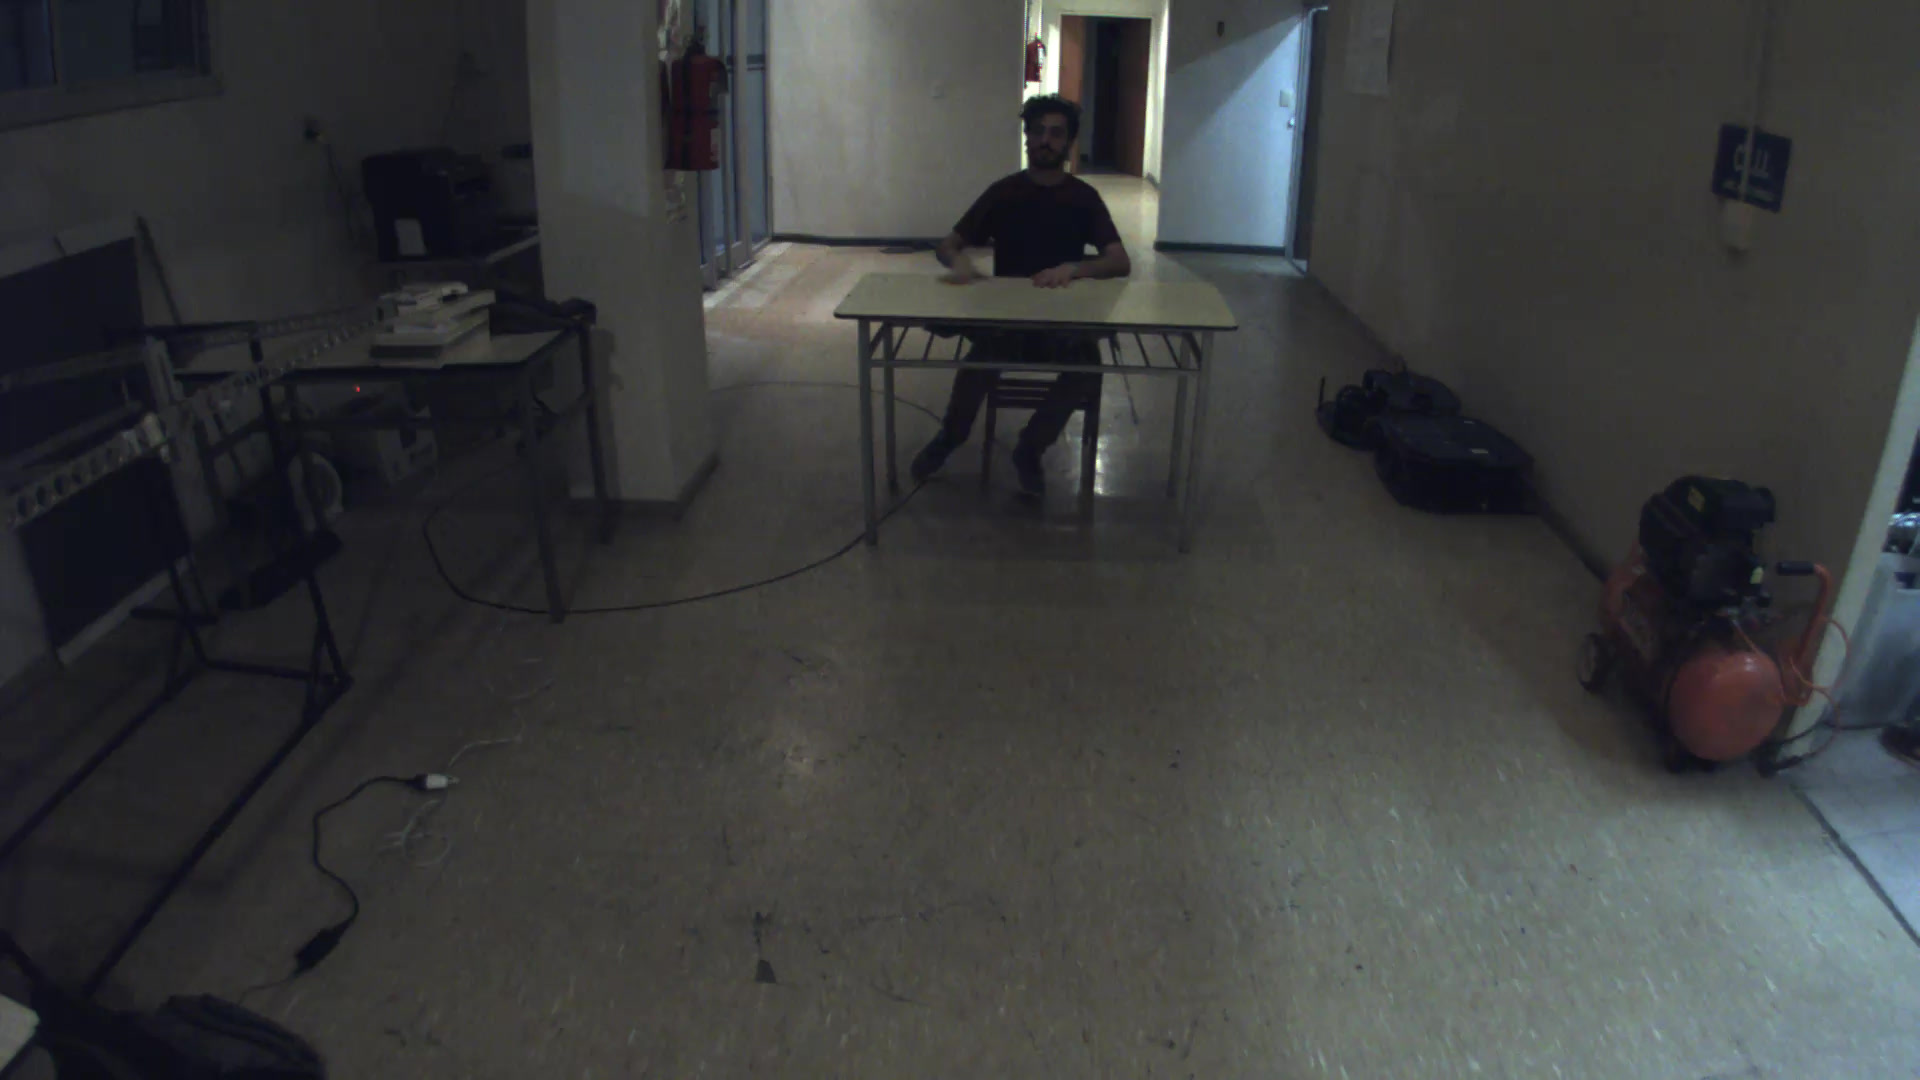hand: (1025, 257, 1102, 301), (934, 229, 986, 286)
